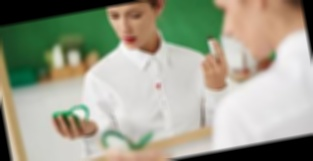lipstick: (153, 81, 163, 98)
